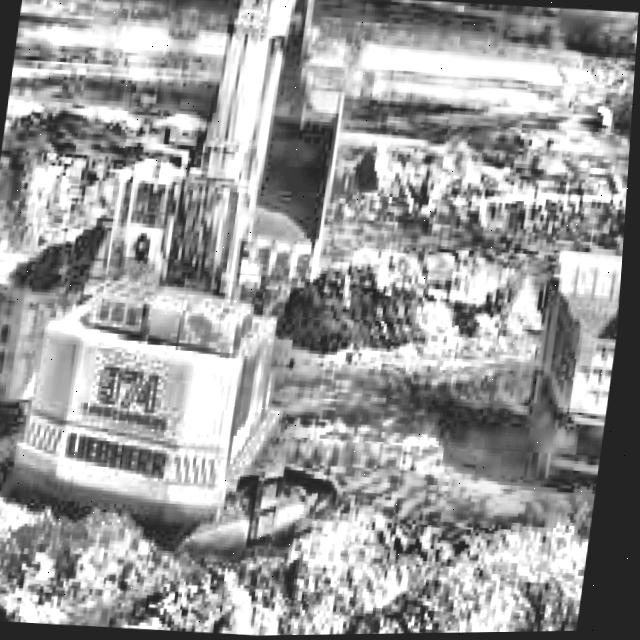dump_truck: (522, 253, 626, 490), (0, 235, 73, 404)
excavator: (8, 0, 400, 551), (625, 14, 639, 47)
